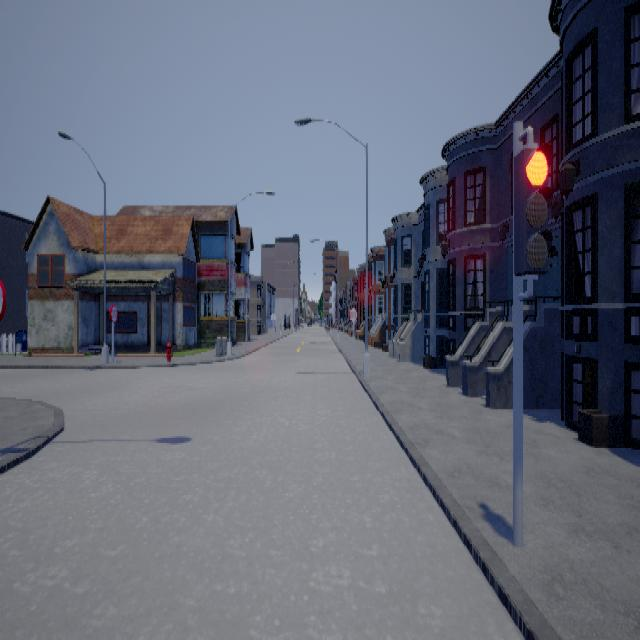red_light: (513, 124, 552, 300)
traffic_sign: (0, 278, 5, 320), (109, 303, 117, 322), (348, 307, 356, 320)
